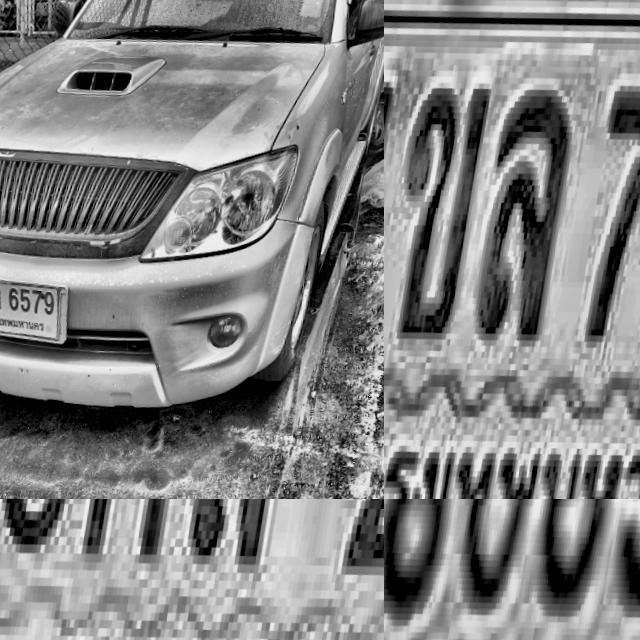license-plate: (384, 0, 640, 499), (0, 499, 384, 640), (384, 499, 640, 640), (0, 265, 81, 355)
